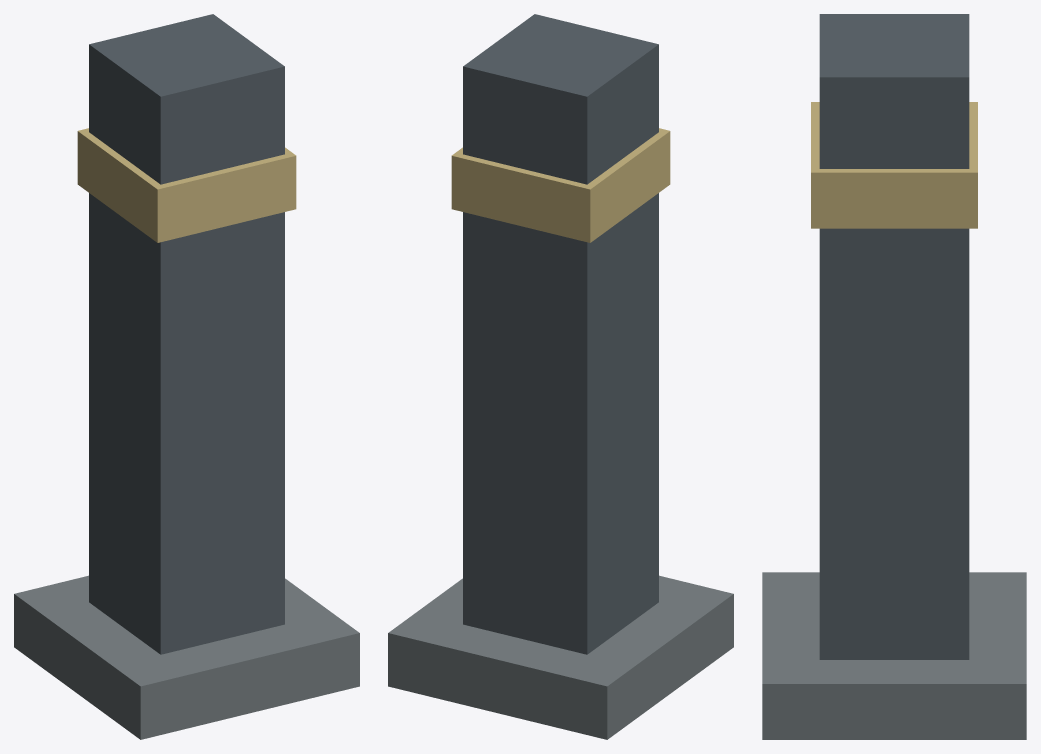
Rendered from bollard.glb.
3 views of the same model, side by side, from view 1: azimuth 30°, elevation 25°; view 2: azimuth 150°, elevation 25°; view 3: azimuth 270°, elevation 25° (orthographic). The views are drawn at different scales.
Visible parts, largest first — view 1: body; view 2: body; view 3: body.
Boxes of the visible parts, bbox=[...] form: body: bbox=[14, 14, 359, 739]; body: bbox=[388, 14, 733, 739]; body: bbox=[762, 14, 1026, 739].
Size of the model in its own units: 0.3 by 0.8 by 0.3.
